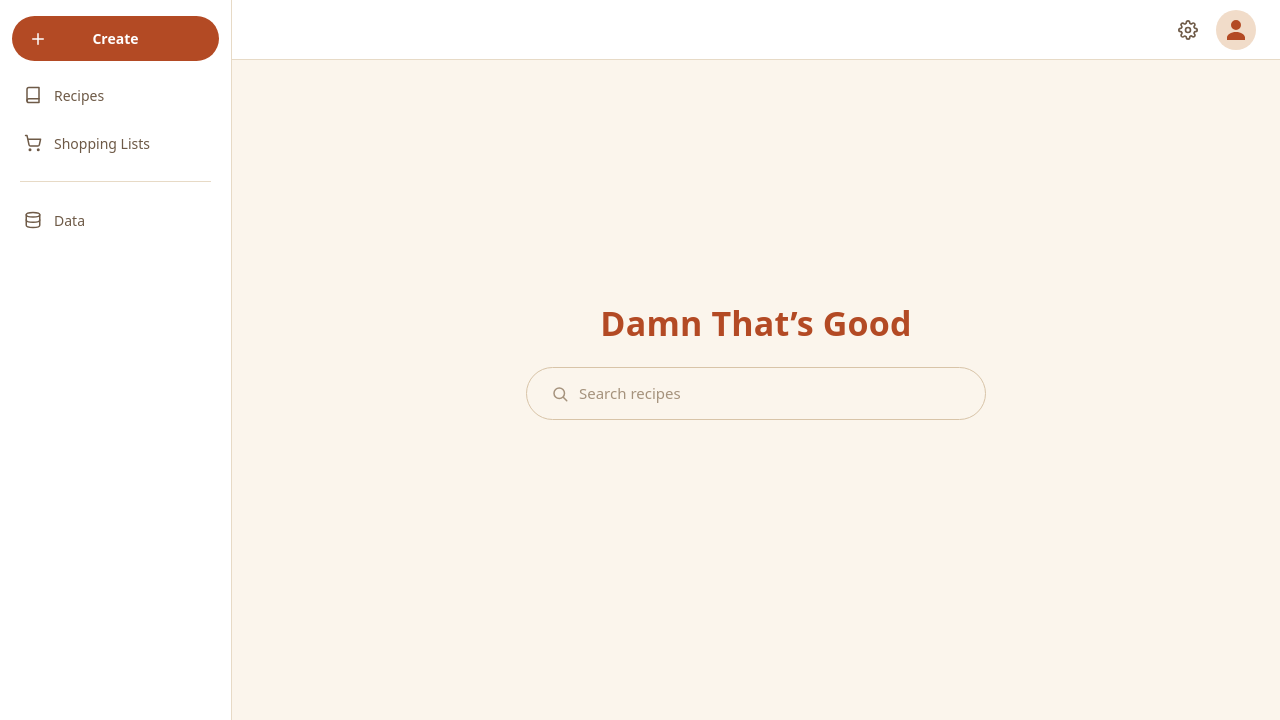
Test: <AvatarMenu> › "Profile" navigates to /profile
Check: the navigation bar named "primary" is shown, box left=0, top=0, right=232, bottom=719
Click the button named "account" at (1236, 30), box left=1216, top=10, right=1256, bottom=50
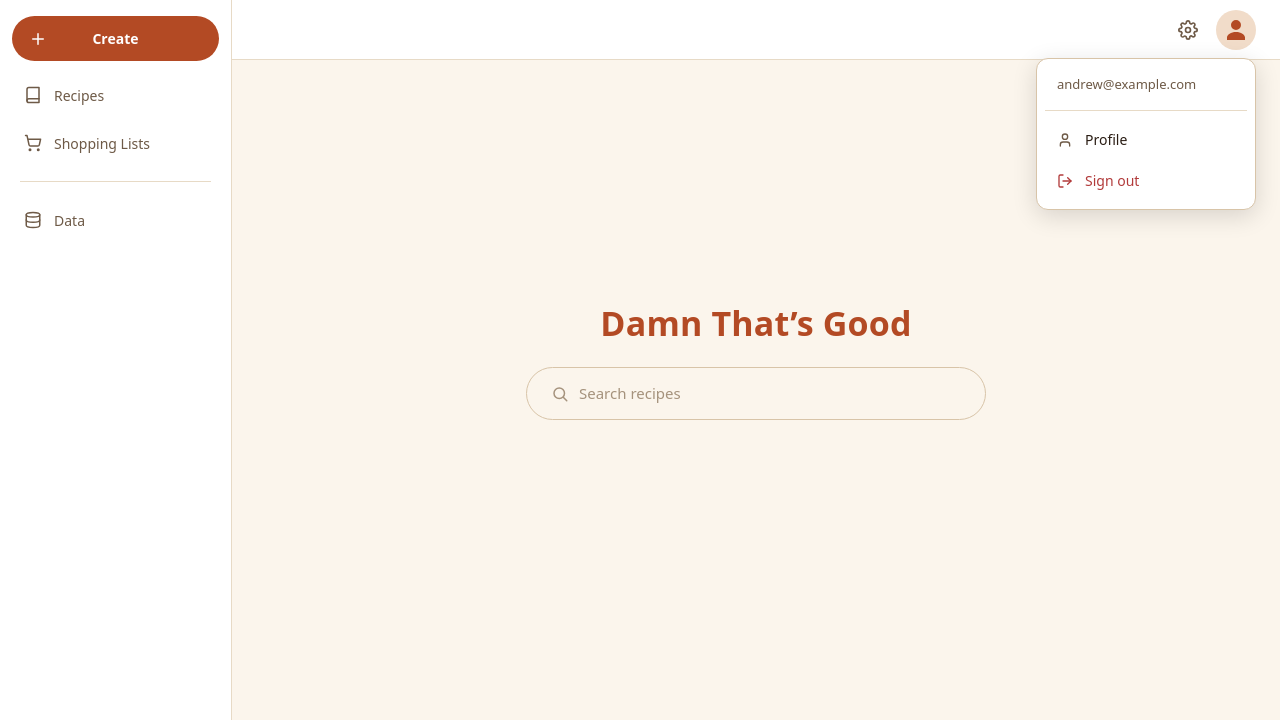
Click the button "Profile" at (1146, 140), box left=1045, top=119, right=1247, bottom=160
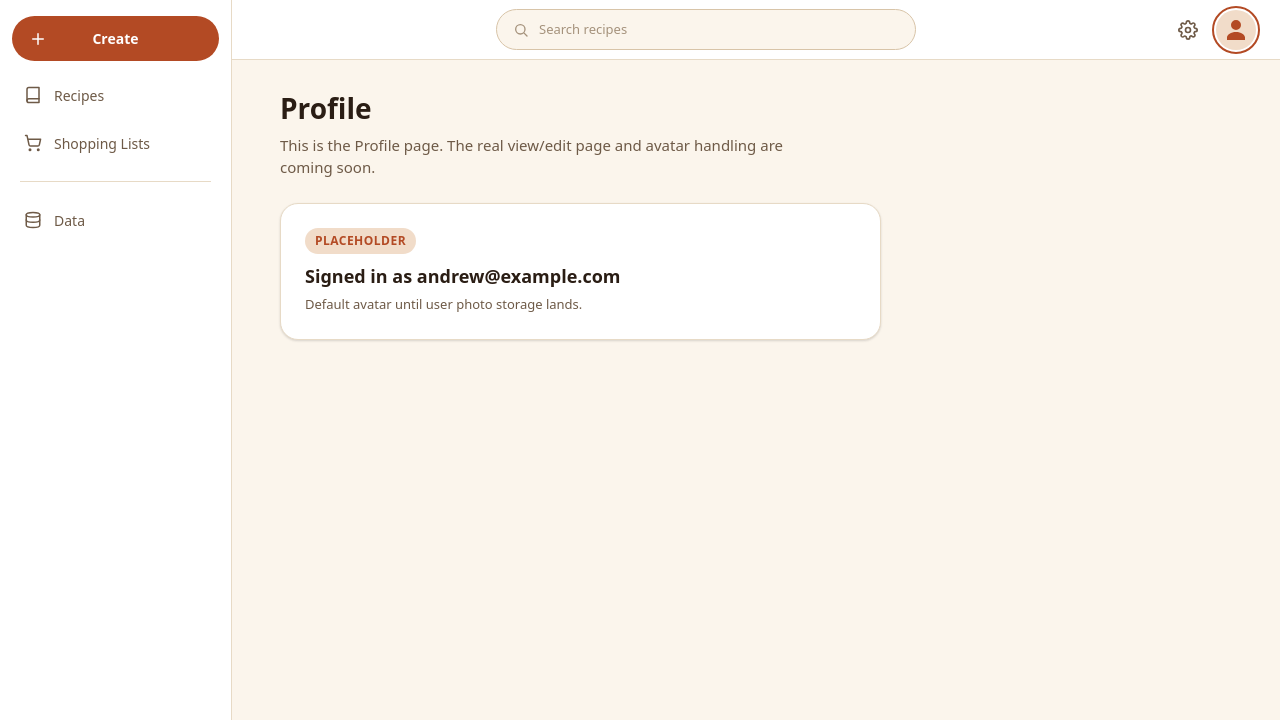
Check: the heading "Profile" is shown, box left=280, top=89, right=372, bottom=127
